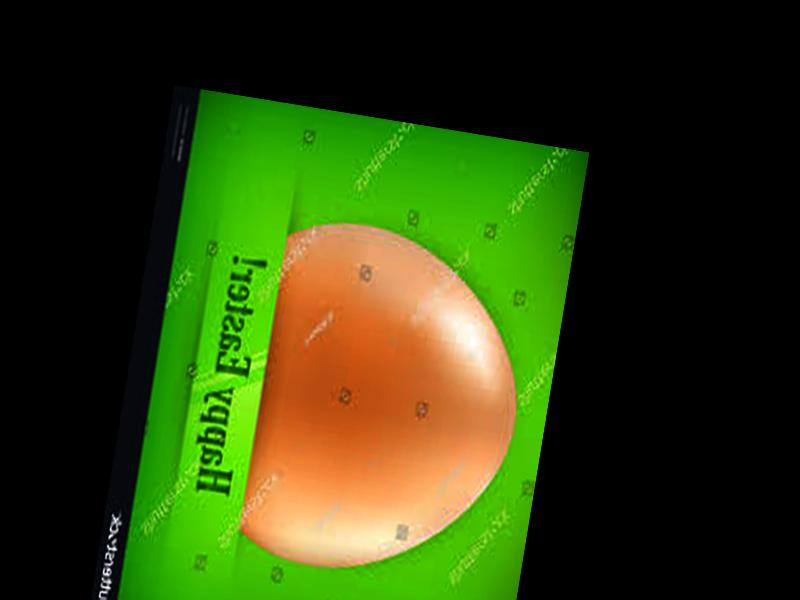Eggs: (235, 213, 543, 593)
